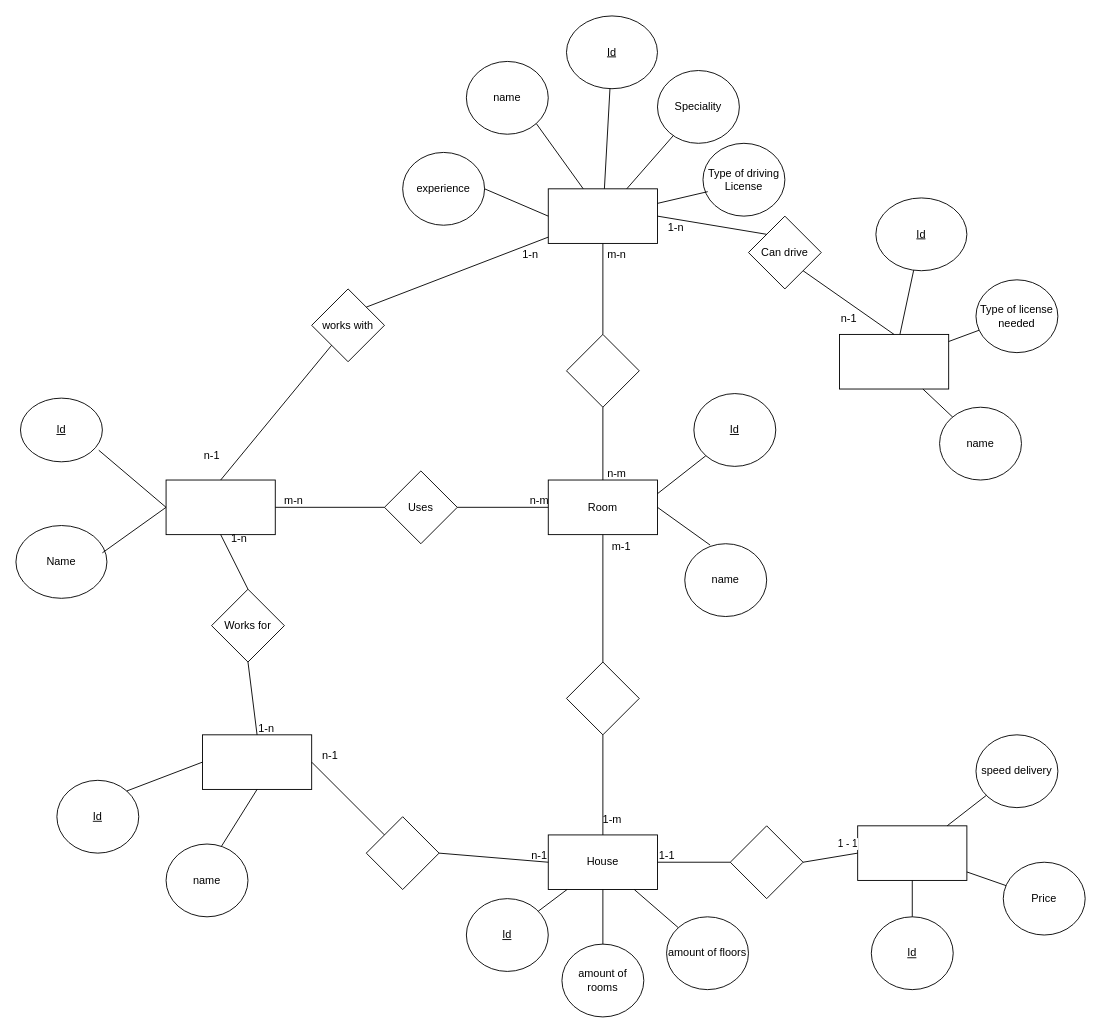
Image size: 1101x1033. Some labels were removed from this diagram. The shapes that lost their labels are listed below. From the top down, each one's centre as x and y in pixels, then its label:
the point at 602,215: Employee
the point at 602,370: works on
the point at 894,361: Vehicles
the point at 220,507: Tool
the point at 602,698: Has
the point at 257,761: Material
the point at 402,853: made out of
the point at 766,862: for
the point at 912,852: Order
